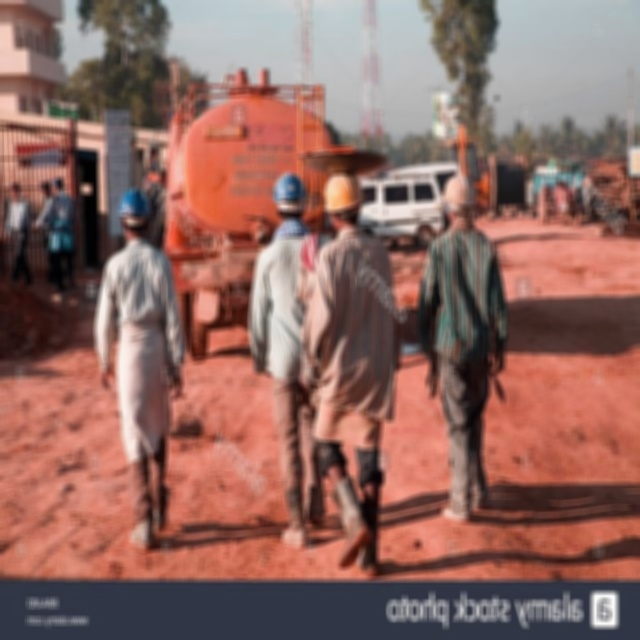Con_Casco: (326, 174, 363, 227)
Sin_Chaleco: (434, 227, 494, 366), (110, 242, 167, 338)
